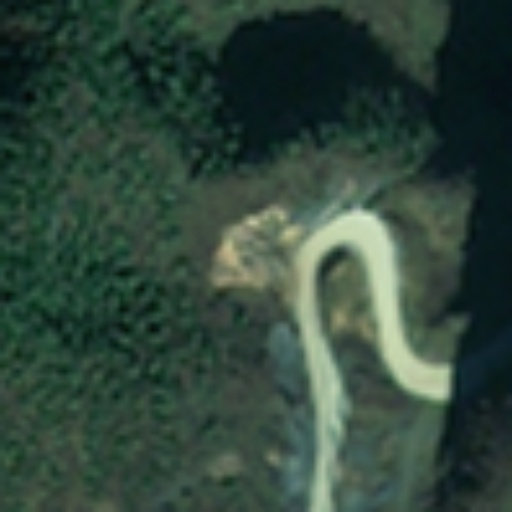landslide: (202, 204, 302, 292)
